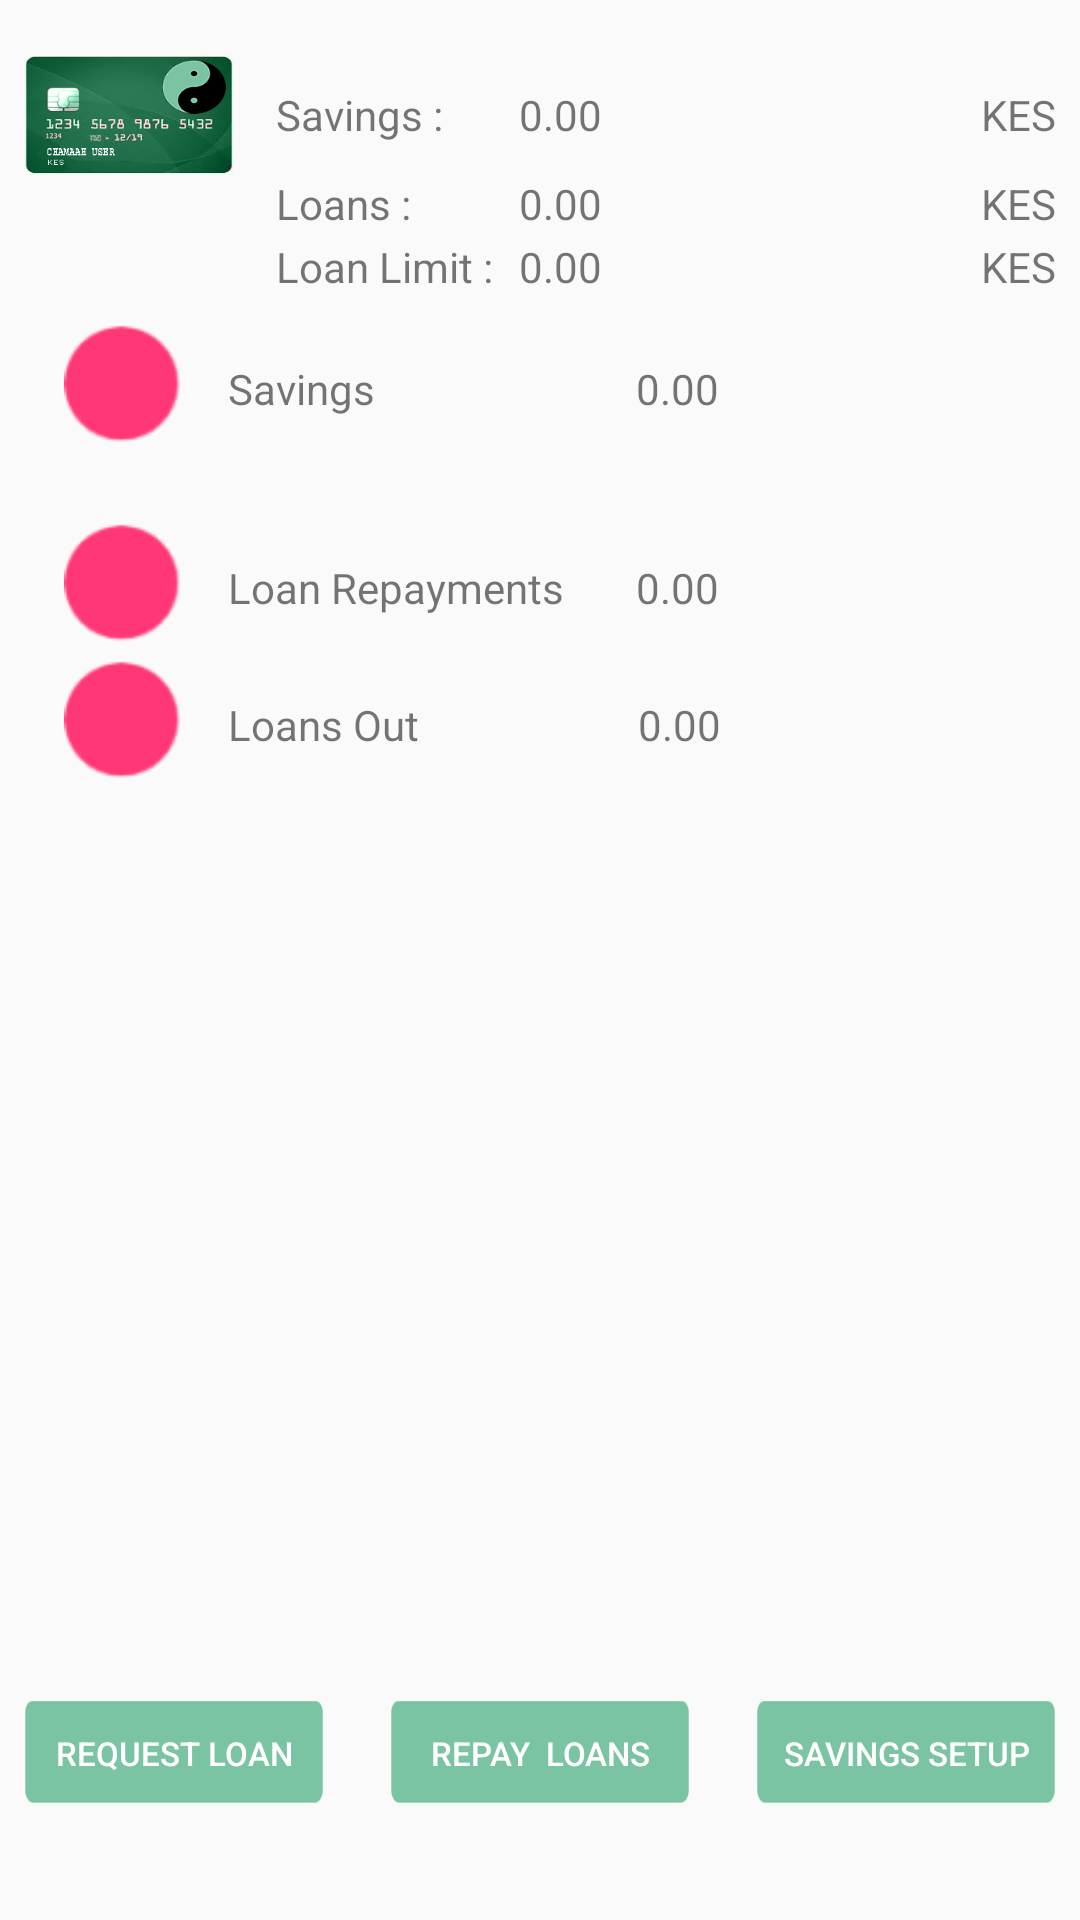

Icons on this 1080px x 1920px Android screen, each with its box as (x1, y1, x2, y2):
virtualcard: (25, 55, 233, 174)
